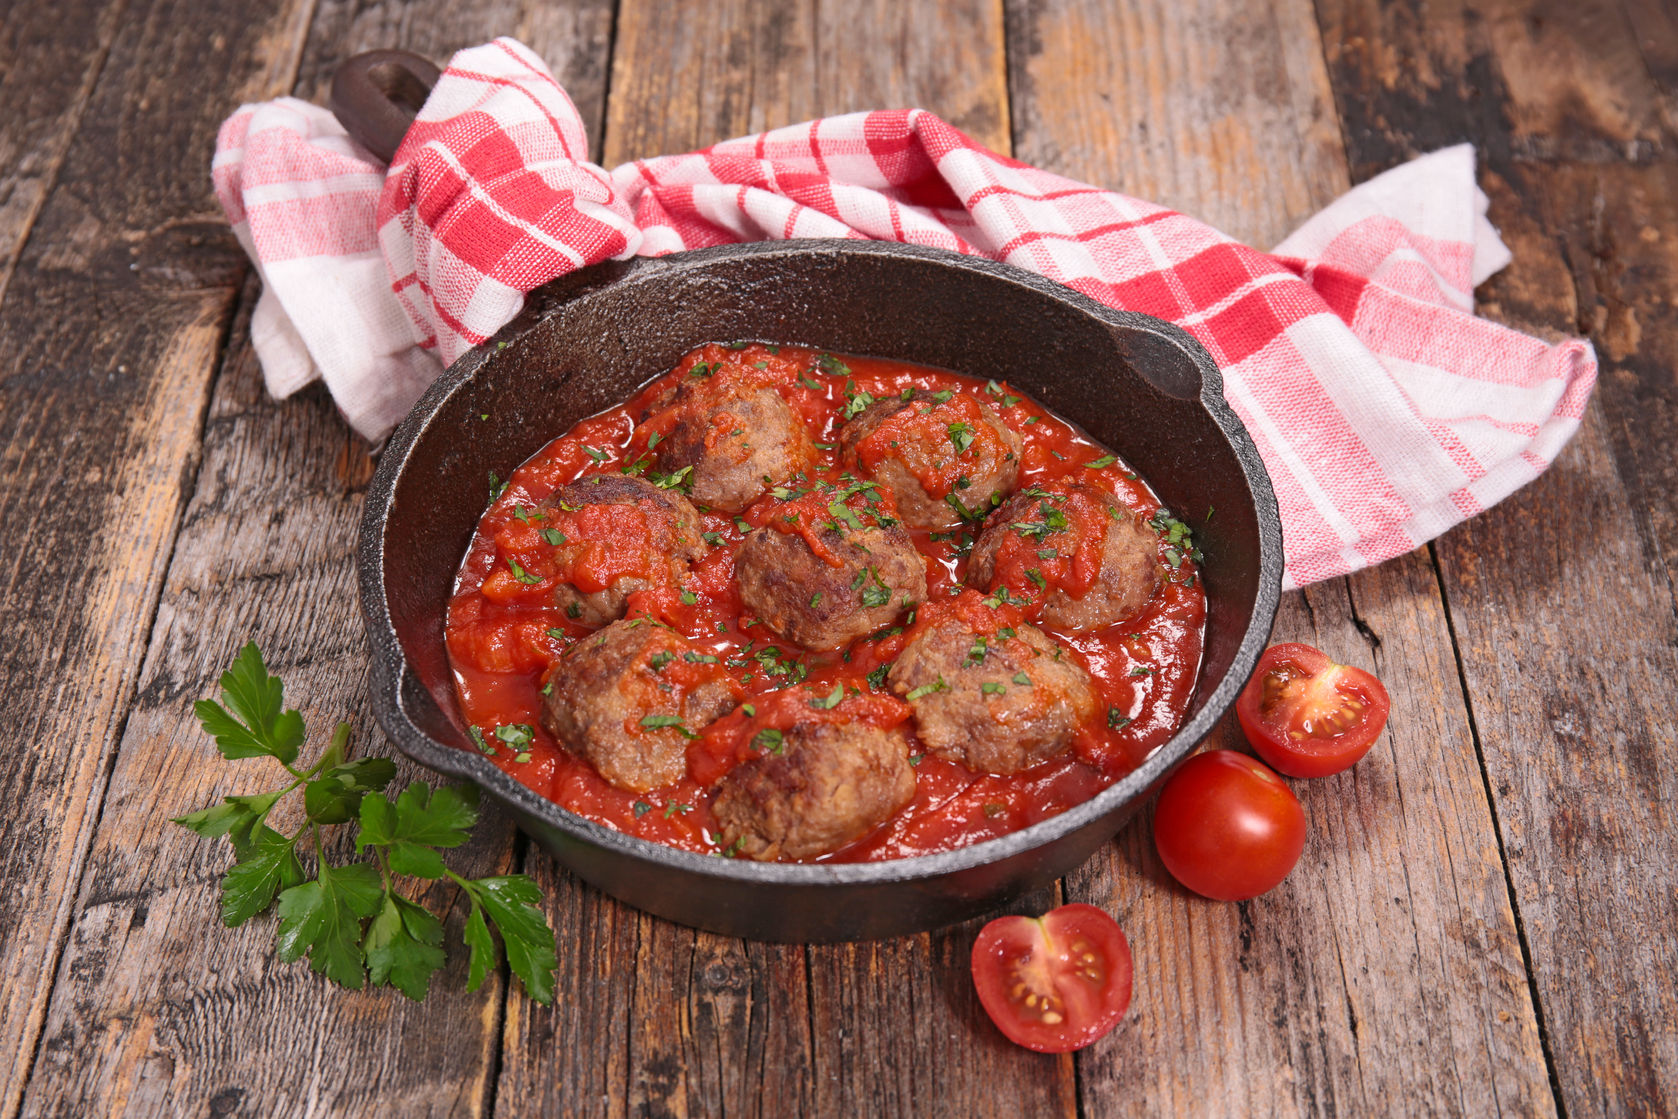meatballs: (552, 402, 1126, 806)
